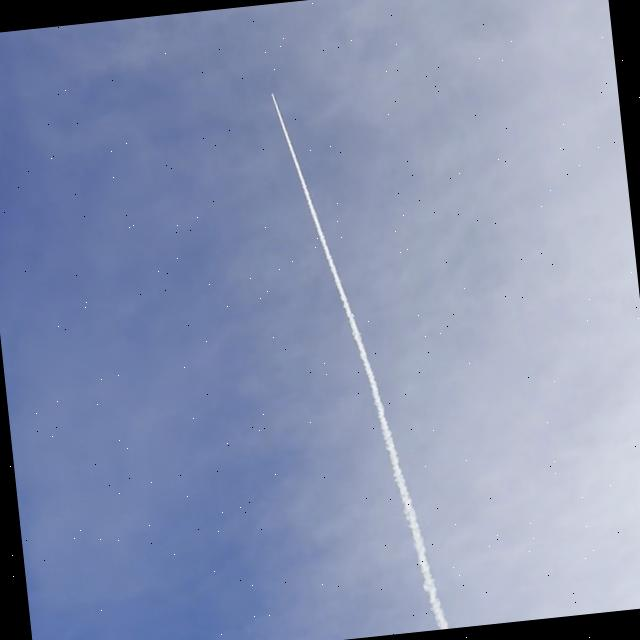smoke_trail_no_rocket: (271, 93, 449, 629)
